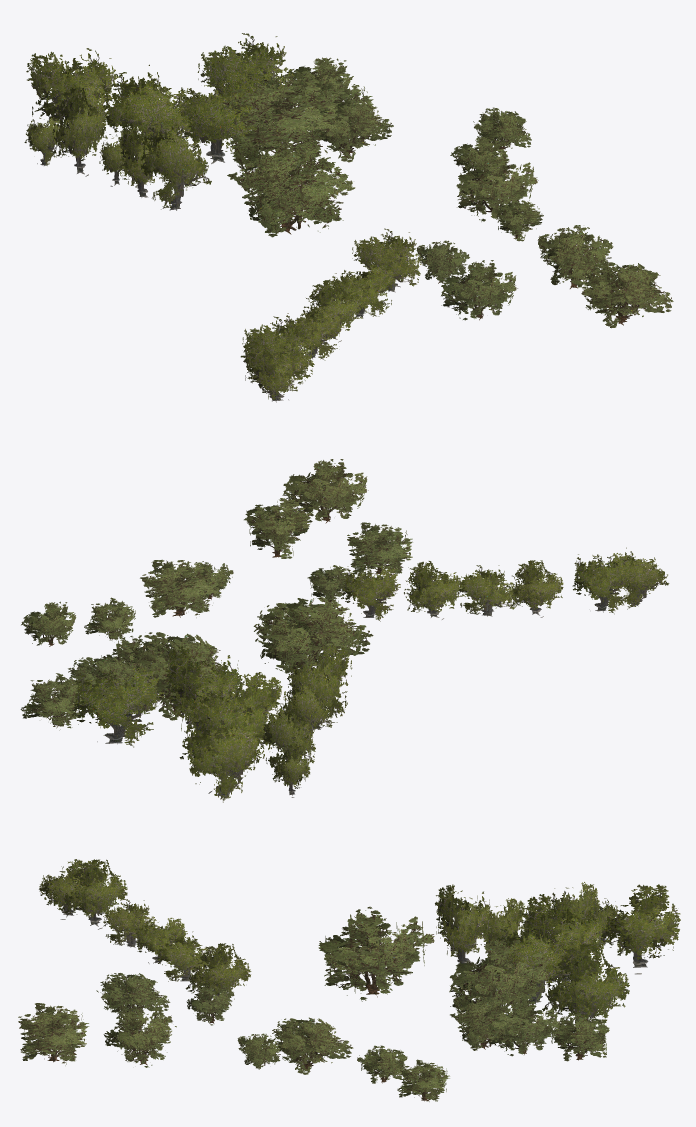
3 renders of one model, top to bottom at view 1: azimuth 30°, elevation 25°; view 2: azimuth 150°, elevation 25°; view 3: azimuth 270°, elevation 25°, orthographic. The views are drawn at different scales.
Parts seen in each view (by area): view 1: geometry_0; view 2: geometry_0; view 3: geometry_0.
Boxes of the visible parts, bbox=[...] form: geometry_0: bbox=[24, 33, 673, 402]; geometry_0: bbox=[20, 459, 669, 802]; geometry_0: bbox=[18, 859, 680, 1101].
Size of the model in its own units: 101 by 17.56 by 134.
Materials: 1 (1 with a texture image).
